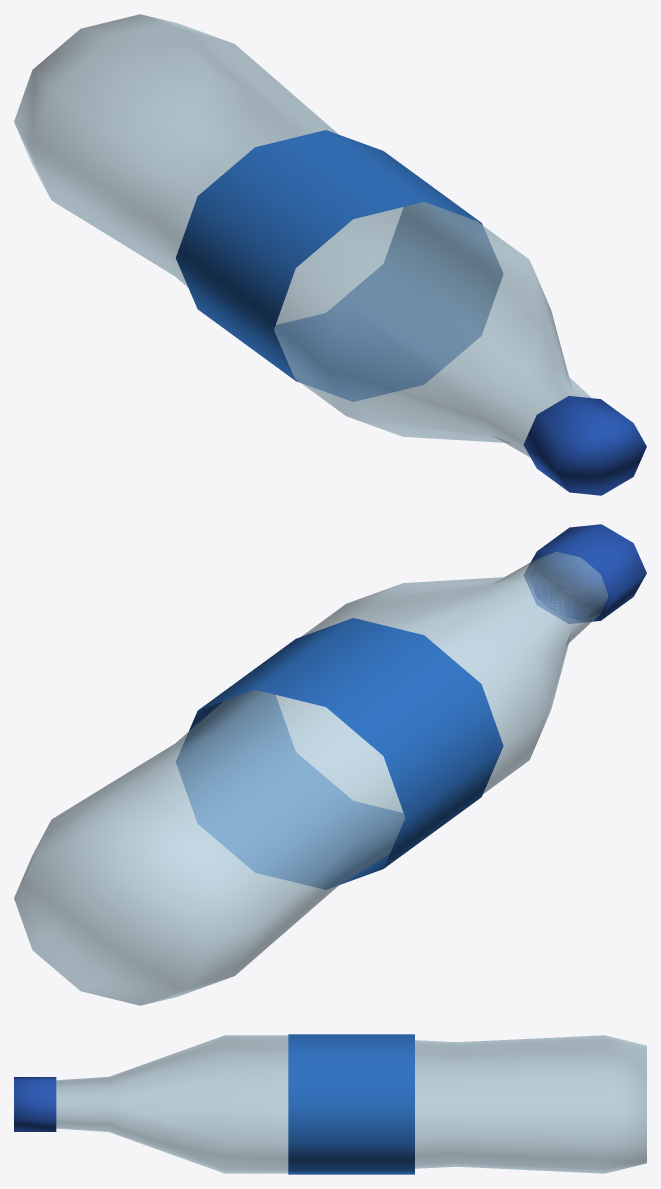
The model's file is smiec_pet.glb.
The picture shows the model from 3 angles, top to bottom: view 1: azimuth 30°, elevation 25°; view 2: azimuth 150°, elevation 25°; view 3: azimuth 270°, elevation 25°; orthographic projection. The views are drawn at different scales.
Visible parts, largest first — view 1: Pet; view 2: Pet; view 3: Pet.
Boxes of the visible parts, x1=… form: Pet: x1=14, y1=14, x2=646, y2=495; Pet: x1=14, y1=524, x2=646, y2=1005; Pet: x1=14, y1=1034, x2=646, y2=1174.
Size of the model in its own units: 0.081 by 0.0616 by 0.3.
